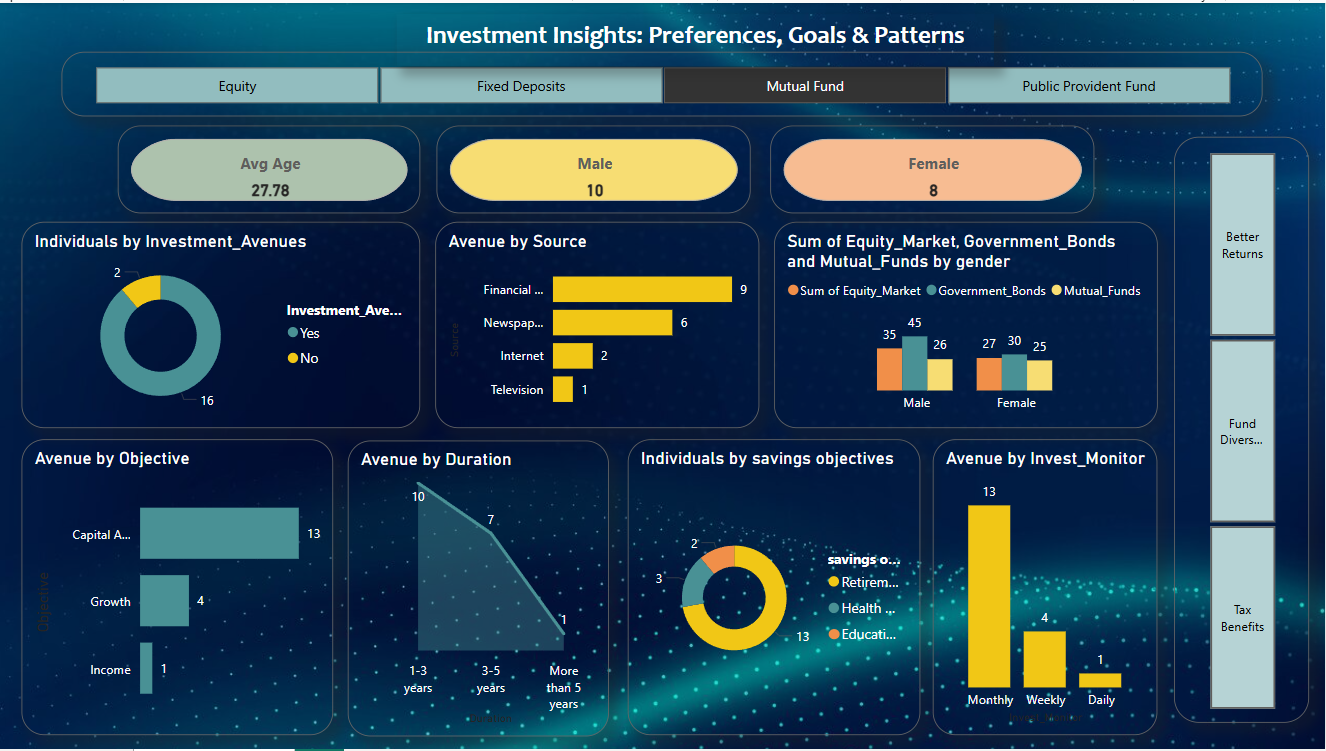

What the dashboard file says about the page in this screenshot:
{"tool":"powerbi","page":{"name":"Final Dashboard","canvas":[1280,720],"ordinal":0},"visuals":[{"type":"donutChart","fields":{"Category":["Data_set 2.What are your savings objectives?"],"Y":["CountNonNull(Data_set 2.gender)"]},"box":[606.8,421,282.3,285.9],"z":0},{"type":"donutChart","fields":{"Category":["Data_set 2.Investment_Avenues"],"Y":["CountNonNull(Data_set 2.gender)"]},"box":[21.7,211.1,384.9,199.1],"z":1000},{"type":"cardVisual","fields":{"Data":["Data_set 2.Avg Age"]},"box":[114.6,118.2,292,84.5],"z":2000},{"type":"clusteredColumnChart","fields":{"Y":["Sum(Data_set 2.Equity_Market)","Sum(Data_set 2.Government_Bonds)","Sum(Data_set 2.Mutual_Funds)"],"Category":["Data_set 2.gender"]},"box":[748,211.1,370.4,199.1],"z":3000},{"type":"cardVisual","fields":{"Data":["Data_set 2.Male"]},"box":[422.3,118.2,302.8,84.5],"z":4000},{"type":"cardVisual","fields":{"Data":["Data_set 2.Female"]},"box":[744.4,118.2,312.5,84.5],"z":5000},{"type":"clusteredBarChart","fields":{"Category":["Data_set 2.Objective"],"Y":["CountNonNull(Data_set 2.Avenue)"]},"box":[21.7,421,300.4,285.9],"z":6000},{"type":"slicer","fields":{"Values":["Data_set 2.Avenue"]},"box":[60.3,47.1,1159.4,62.7],"z":7000},{"type":"areaChart","fields":{"Category":["Data_set 2.Duration"],"Y":["CountNonNull(Data_set 2.Avenue)"]},"box":[336.6,422.3,252.1,285.9],"z":8000},{"type":"clusteredColumnChart","fields":{"Category":["Data_set 2.Invest_Monitor"],"Y":["CountNonNull(Data_set 2.Avenue)"]},"box":[901.2,421,217.2,285.9],"z":9000},{"type":"slicer","fields":{"Values":["Data_set 2.Reason_Mutual"]},"box":[1134.1,129.1,130.3,565.8],"z":10000},{"type":"clusteredBarChart","fields":{"Category":["Data_set 2.Source"],"Y":["CountNonNull(Data_set 2.Avenue)"]},"box":[421,211.1,312.5,199.1],"z":11000},{"type":"textbox","box":[383.6,10.9,576.7,49.5],"z":12000}]}

Visuals, with their boxes in screenshot pixels (x1, y1, x2, y2), scaled from the page's 1280x720 canvas onto the 1326x751 screenshot:
donutChart - Data_set 2.What are your savings objectives? x CountNonNull(Data_set 2.gender): 629, 439, 921, 737
donutChart - Data_set 2.Investment_Avenues x CountNonNull(Data_set 2.gender): 22, 220, 421, 428
cardVisual - Data_set 2.Avg Age: 119, 123, 421, 211
clusteredColumnChart - Sum(Data_set 2.Equity_Market) x Sum(Data_set 2.Government_Bonds): 775, 220, 1159, 428
cardVisual - Data_set 2.Male: 437, 123, 751, 211
cardVisual - Data_set 2.Female: 771, 123, 1095, 211
clusteredBarChart - Data_set 2.Objective x CountNonNull(Data_set 2.Avenue): 22, 439, 334, 737
slicer - Data_set 2.Avenue: 62, 49, 1264, 115
areaChart - Data_set 2.Duration x CountNonNull(Data_set 2.Avenue): 349, 440, 610, 739
clusteredColumnChart - Data_set 2.Invest_Monitor x CountNonNull(Data_set 2.Avenue): 934, 439, 1159, 737
slicer - Data_set 2.Reason_Mutual: 1175, 135, 1310, 725
clusteredBarChart - Data_set 2.Source x CountNonNull(Data_set 2.Avenue): 436, 220, 760, 428
textbox: 397, 11, 995, 63
